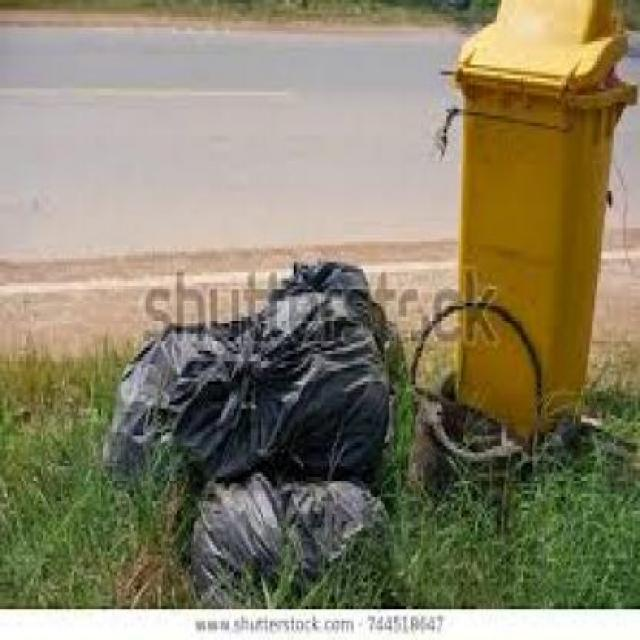garbage: (111, 334, 388, 596), (406, 294, 638, 518), (297, 252, 392, 300)
